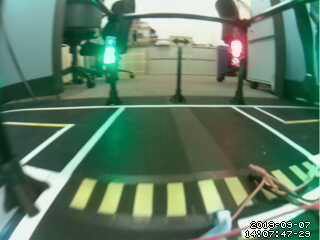Left_Right_sign: (169, 34, 194, 50)
Traffic_light_green: (103, 38, 115, 63)
Traffic_light_red: (227, 39, 245, 70)
